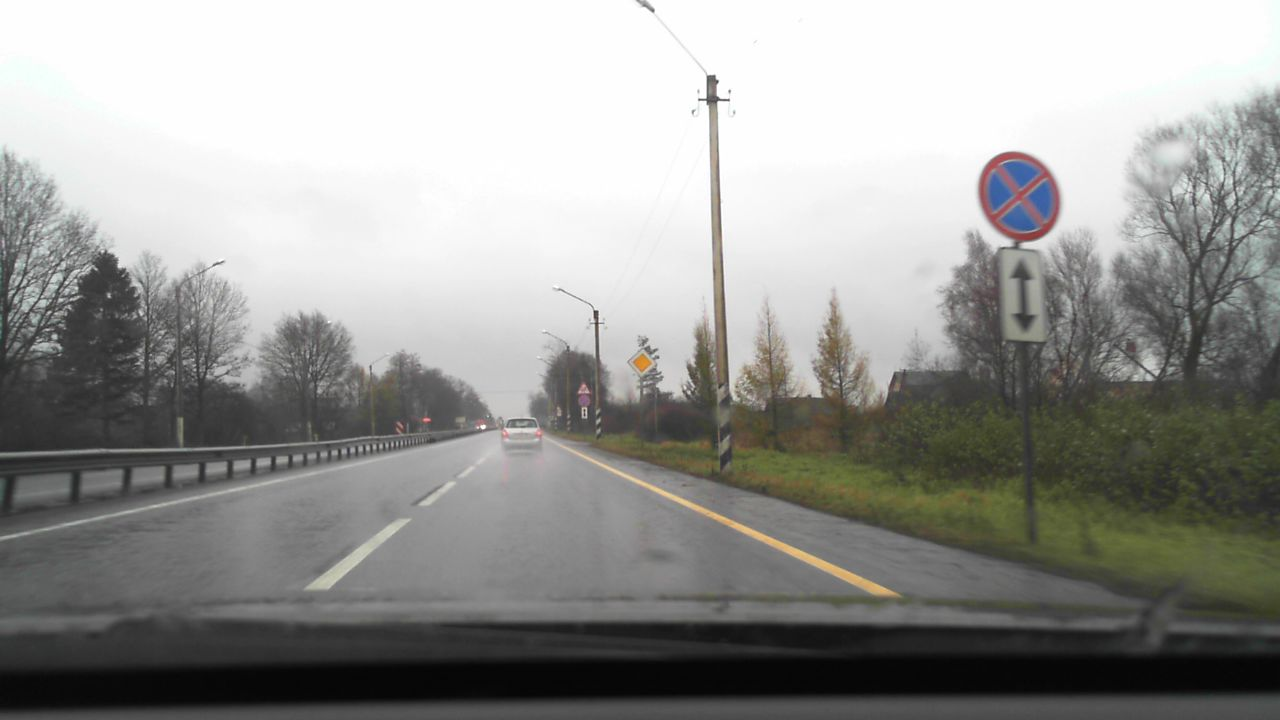No Parking: (978, 152, 1059, 241)
